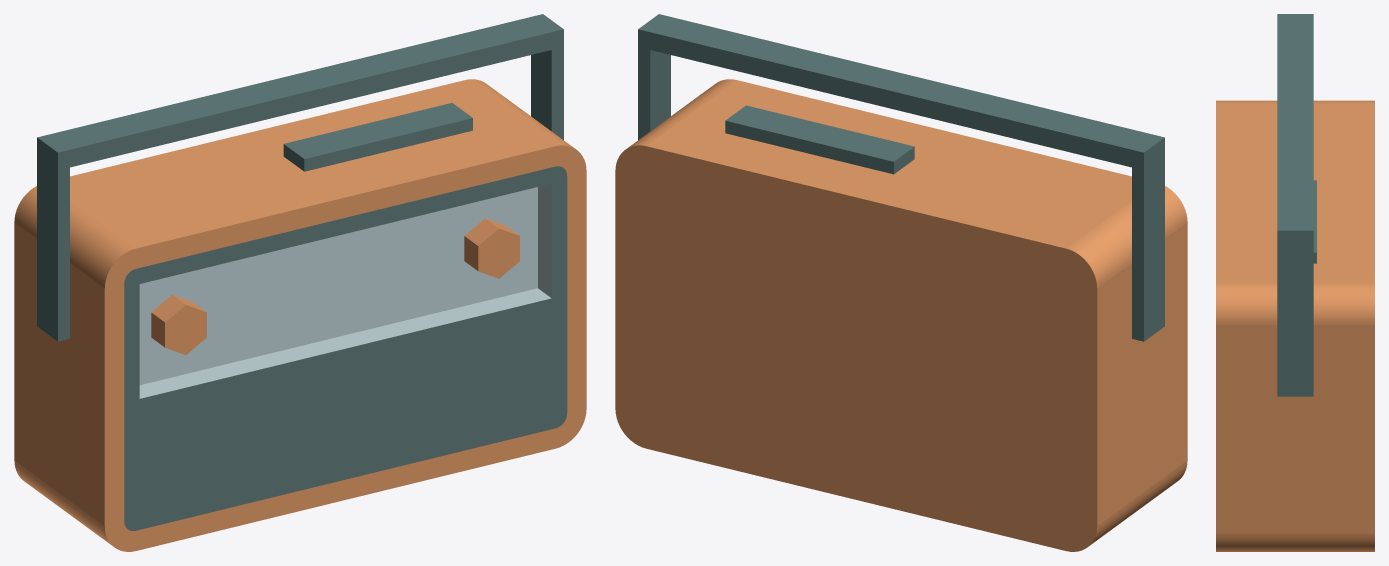
Rendered from radio.glb.
3 renders of one model, left to right at view 1: azimuth 30°, elevation 25°; view 2: azimuth 150°, elevation 25°; view 3: azimuth 270°, elevation 25°, orthographic. The views are drawn at different scales.
Parts seen in each view (by area): view 1: radio; view 2: radio; view 3: radio.
Boxes of the visible parts, x1,y1,x2,y2 form: radio: (14,14,586,551); radio: (615,14,1187,551); radio: (1216,14,1374,551).
Bounding box in the file's own units: 0.5123 × 0.3711 × 0.1586.
